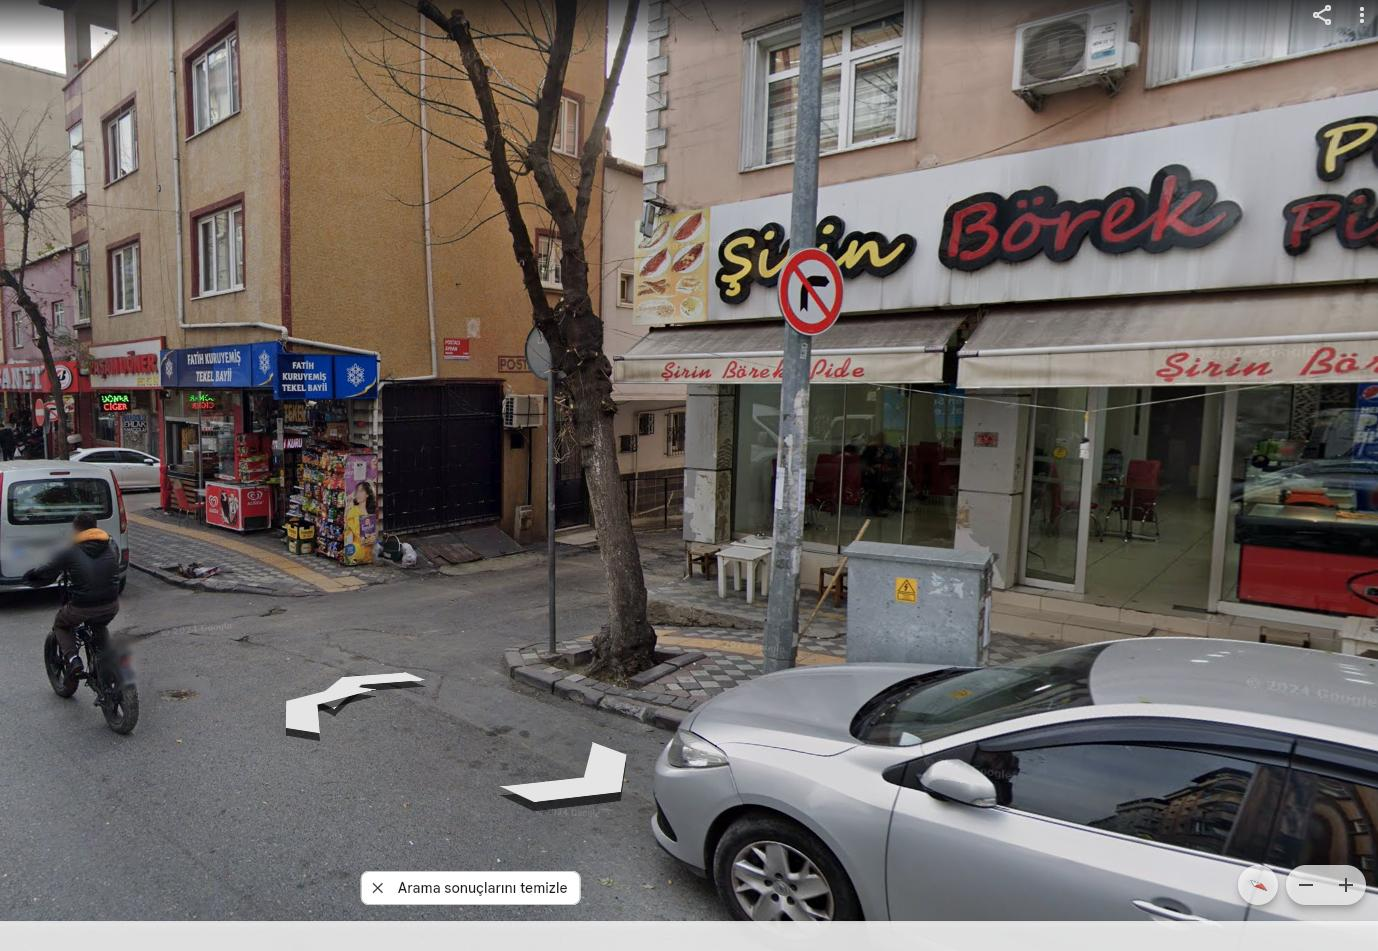rightturnsareforbidden: (771, 244, 854, 345)
